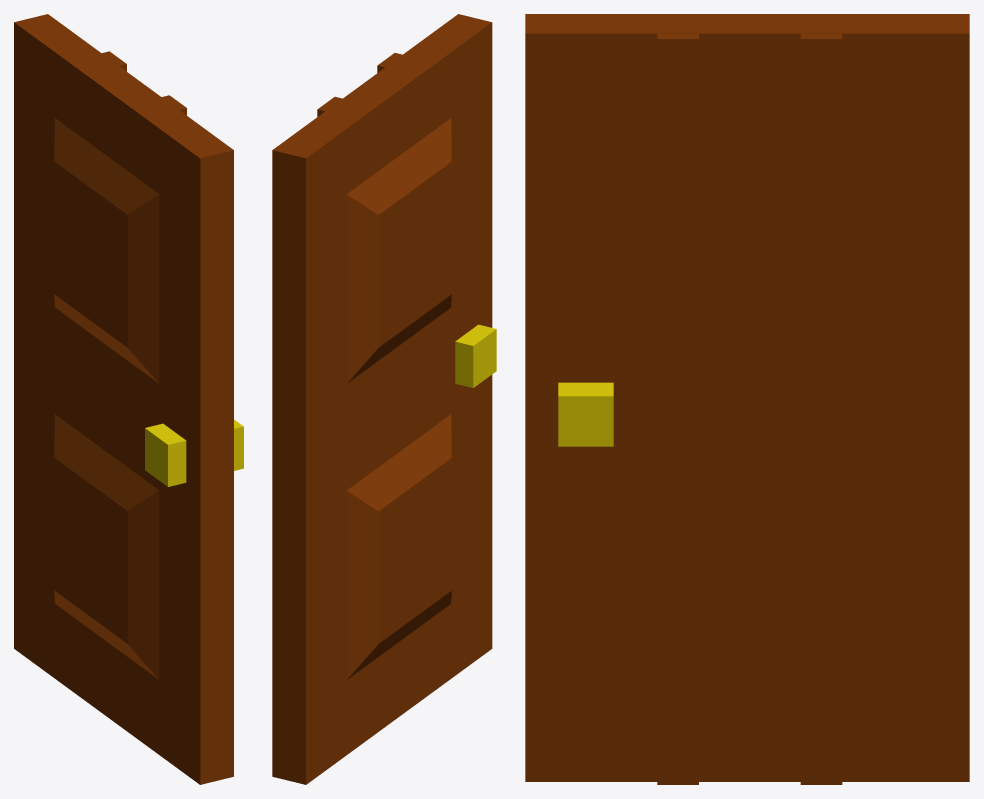
File: door.fbx
3 views of the same model, side by side, from view 1: azimuth 30°, elevation 25°; view 2: azimuth 150°, elevation 25°; view 3: azimuth 270°, elevation 25° (orthographic). The views are drawn at different scales.
Visible parts, largest first — view 1: Cube; view 2: Cube; view 3: Cube.
Boxes of the visible parts, left/top/right/bottom form: Cube: left=14, top=14, right=243, bottom=784; Cube: left=272, top=14, right=496, bottom=784; Cube: left=525, top=14, right=969, bottom=784.
Bounding box in the file's own units: 14.4 × 114 × 61.27.
